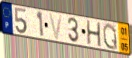1: (36, 10, 45, 39)
3: (67, 17, 80, 44)
5: (15, 7, 28, 36)
H: (86, 19, 103, 48)
Q: (102, 22, 119, 51)
V: (48, 12, 64, 41)
